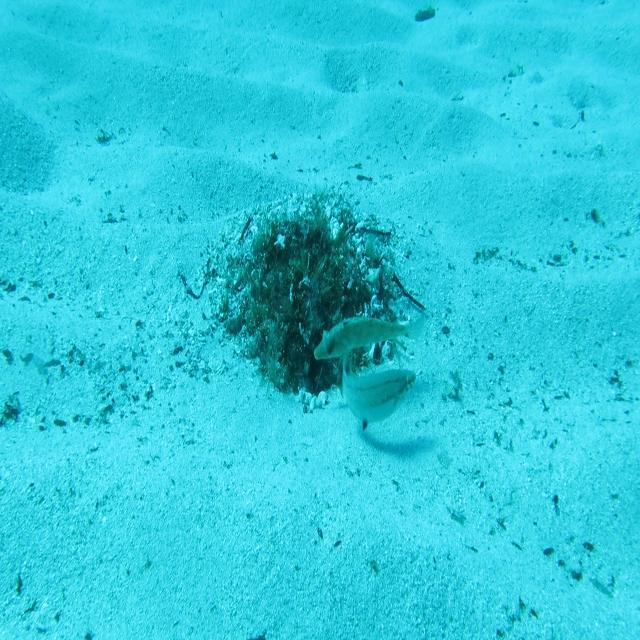ROLL: (313, 301, 429, 368)
core_nest: (280, 232, 331, 290)
female: (340, 337, 418, 432)
nest: (199, 169, 421, 423)
vegetation: (414, 6, 439, 25)
